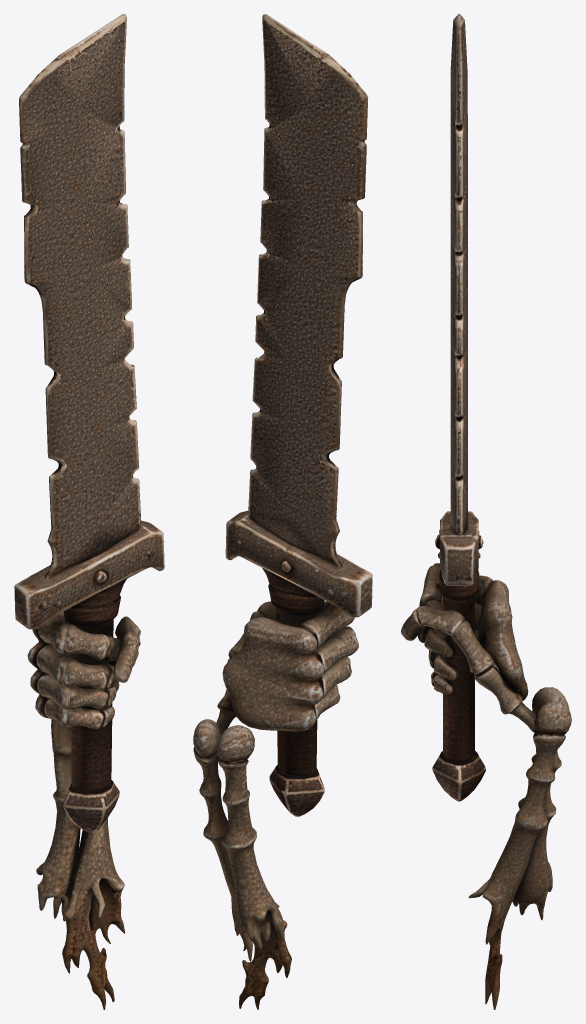
File: skeleton_hand_r.glb
3 renders of one model, left to right at view 1: azimuth 30°, elevation 25°; view 2: azimuth 150°, elevation 25°; view 3: azimuth 270°, elevation 25°, orthographic.
Visible parts, largest first — view 1: tripo_node_c1cfd8bb-d1b2-4e81-a412-9a5acd1f544b; view 2: tripo_node_c1cfd8bb-d1b2-4e81-a412-9a5acd1f544b; view 3: tripo_node_c1cfd8bb-d1b2-4e81-a412-9a5acd1f544b.
Boxes of the visible parts, x1,y1,x2,y2 form: tripo_node_c1cfd8bb-d1b2-4e81-a412-9a5acd1f544b: (14, 14, 164, 1009); tripo_node_c1cfd8bb-d1b2-4e81-a412-9a5acd1f544b: (193, 14, 372, 1009); tripo_node_c1cfd8bb-d1b2-4e81-a412-9a5acd1f544b: (401, 14, 571, 1009).
Bounding box in the file's own units: 0.145 × 0.9995 × 0.1567.
1 material, 1 textured.
